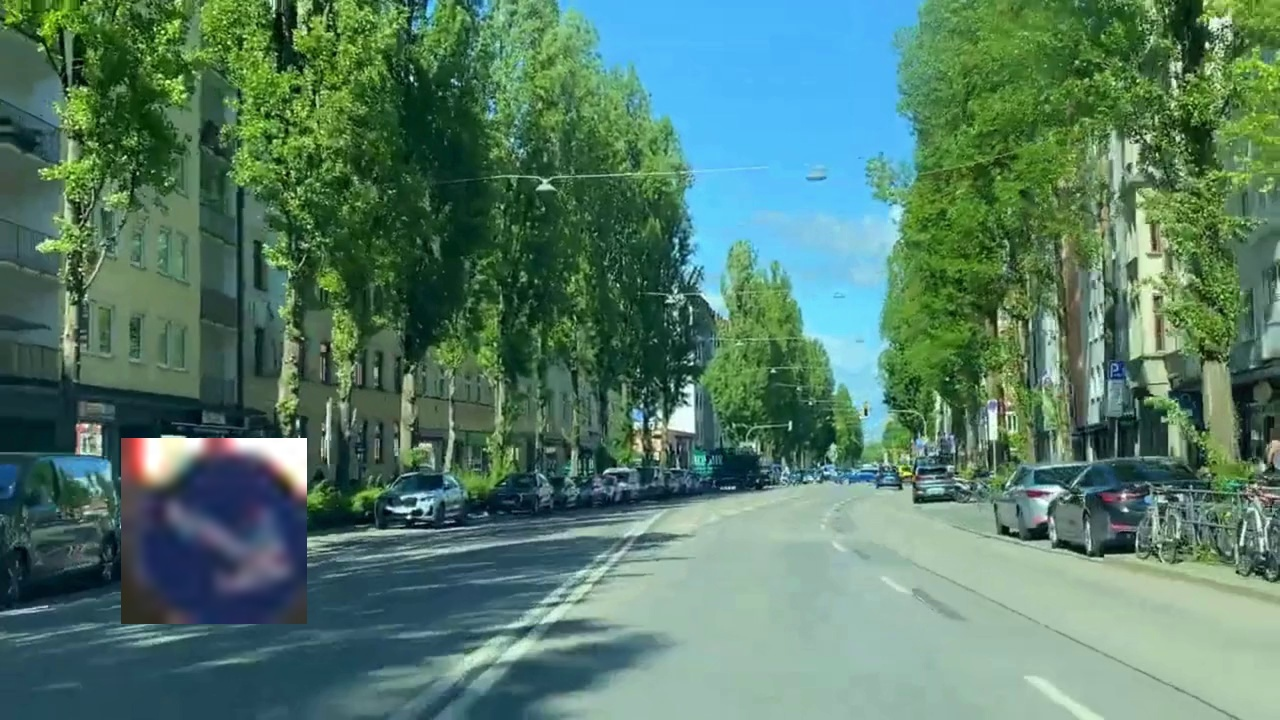Keep right: (121, 438, 307, 624)
